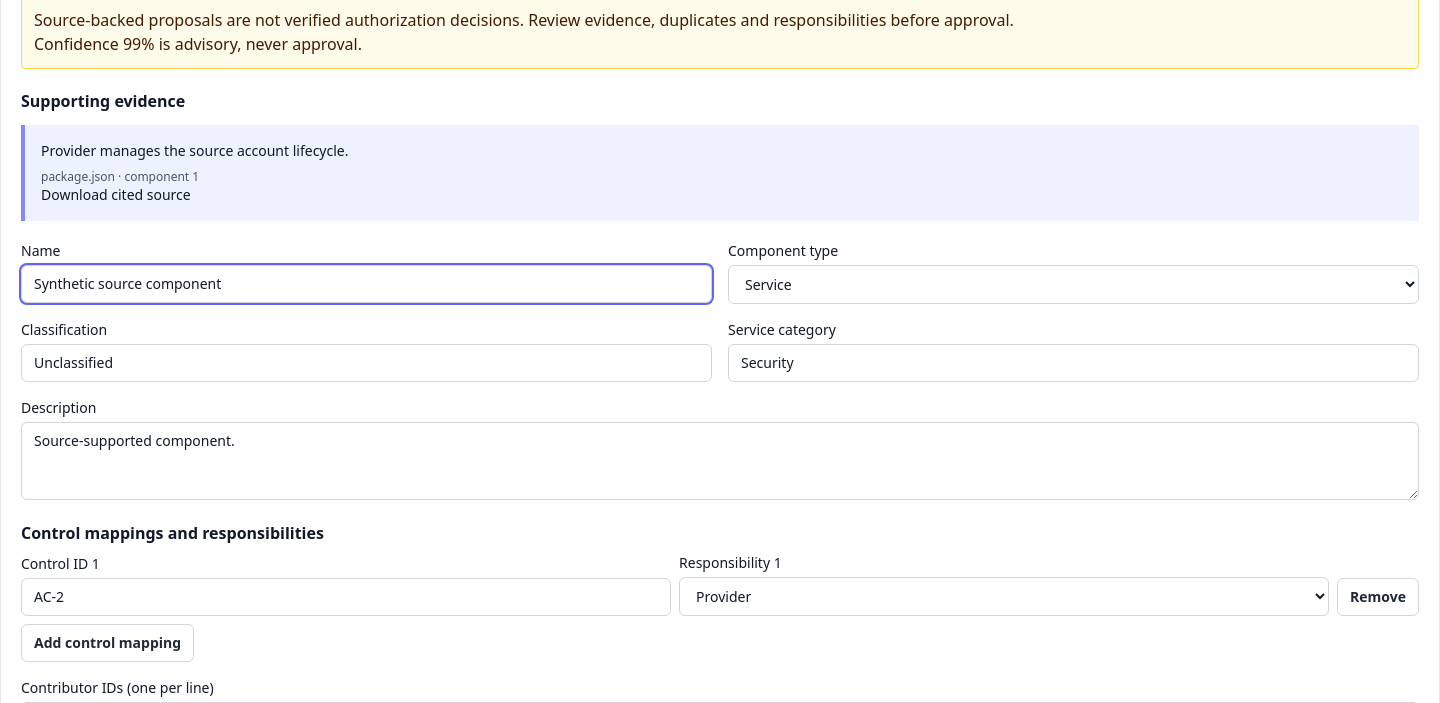
it: source-backed candidate review › does not submit a missing or invalid inventory component selection (null)
The image size is (1440, 703).
Select "Service" in the dropdown labelled "Component type" at point(1074, 284), box [728,265,1419,304]
(page scrolled)
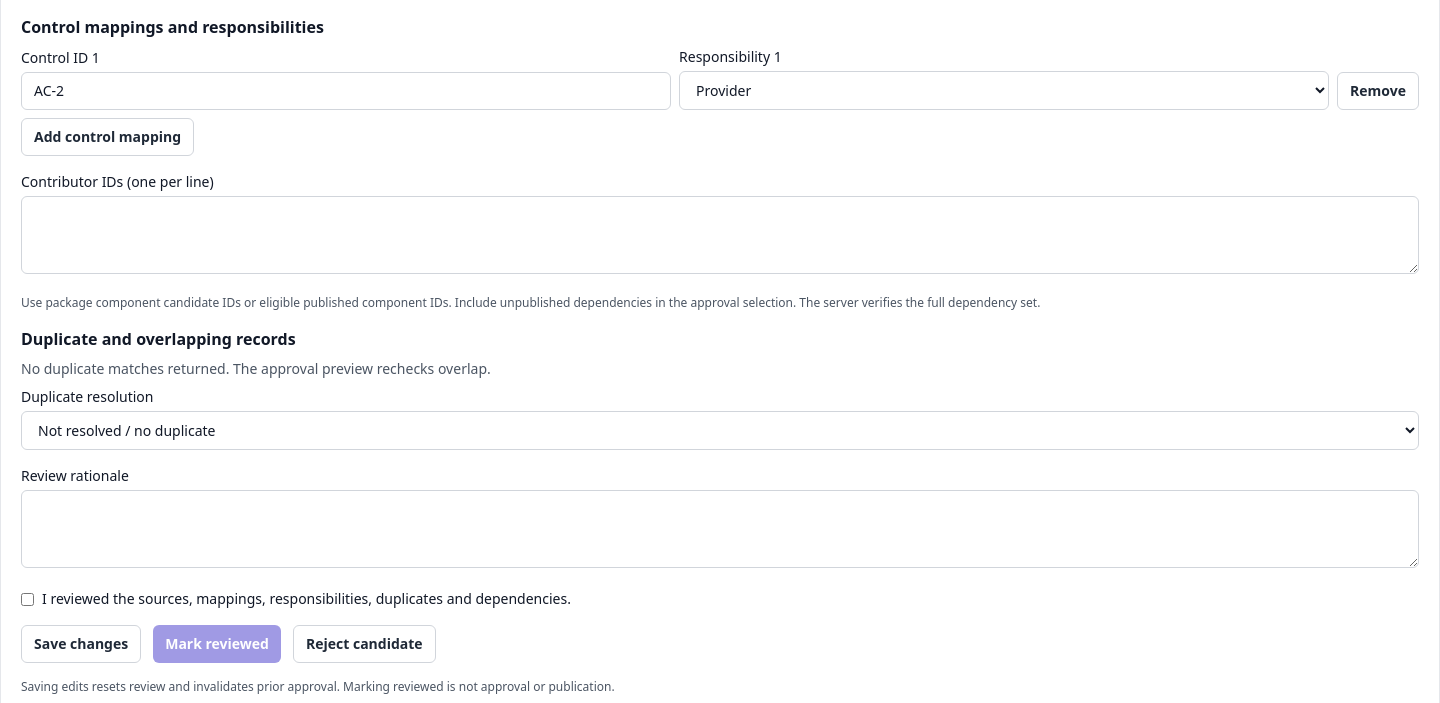
Click the button "Save changes" at point(81, 644), box [21,625,141,663]
(page scrolled)
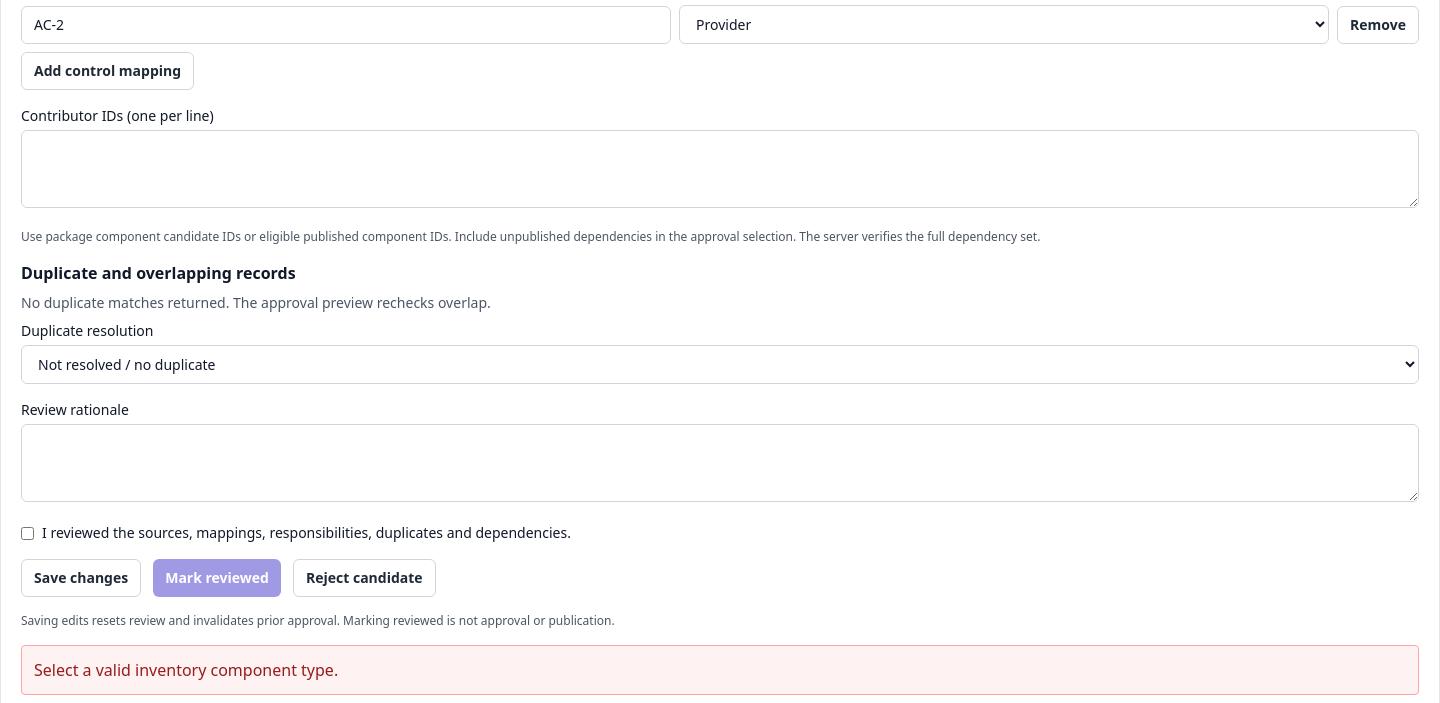
Expected: the message shows "Select a valid inventory component type", [34,659,338,681]
